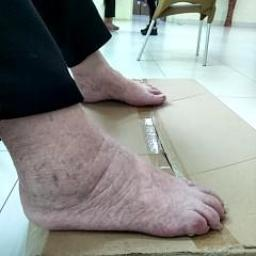Lateral View -Right Foot-: (1, 141, 232, 242)
